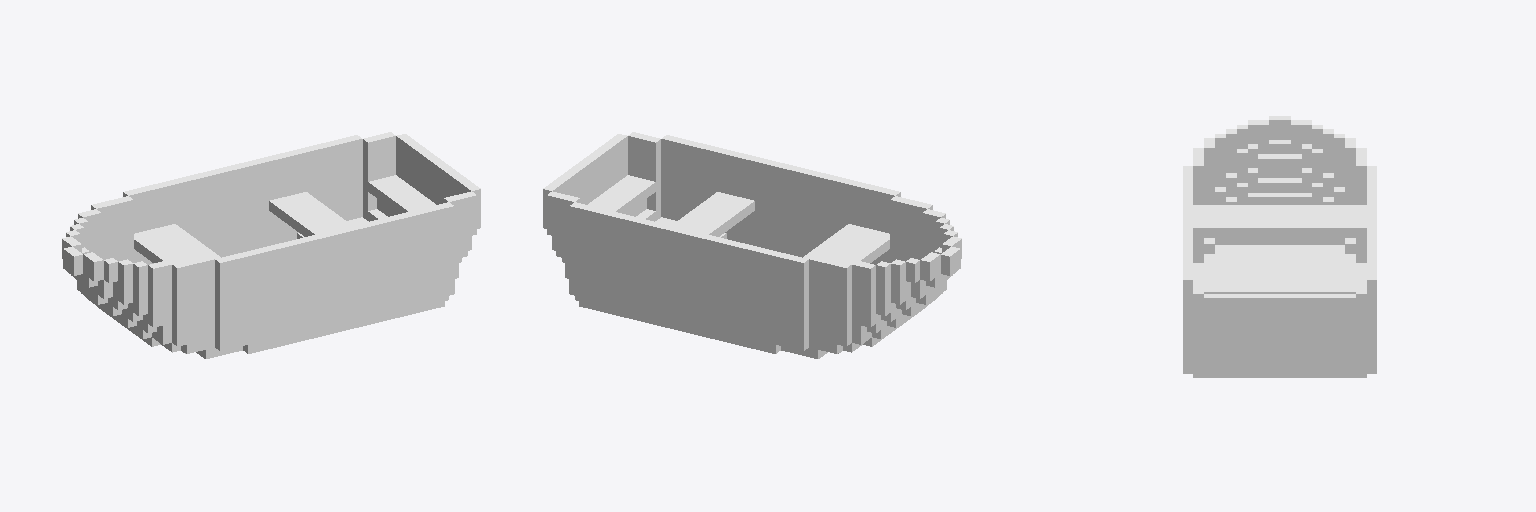
Rendered from Boat1.obj.
The picture shows the model from 3 angles: view 1: azimuth 30°, elevation 25°; view 2: azimuth 150°, elevation 25°; view 3: azimuth 270°, elevation 25°; orthographic projection.
Visible parts, largest first — view 1: object 1; view 2: object 1; view 3: object 1.
Part boxes in pixels (bbox=[...]): object 1: bbox=[62, 132, 480, 358]; object 1: bbox=[543, 132, 961, 358]; object 1: bbox=[1183, 116, 1376, 377].
Size of the model in its own units: 4 by 1 by 1.8.